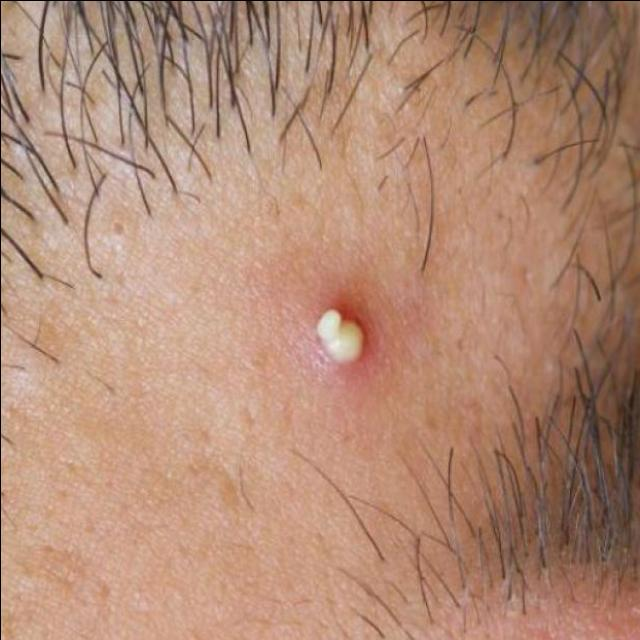pustule: (287, 263, 391, 397)
